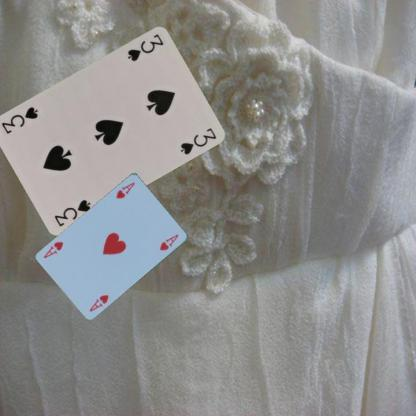3s: (124, 30, 164, 63), (51, 196, 92, 228)
Ah: (113, 179, 136, 200), (86, 292, 110, 312)
